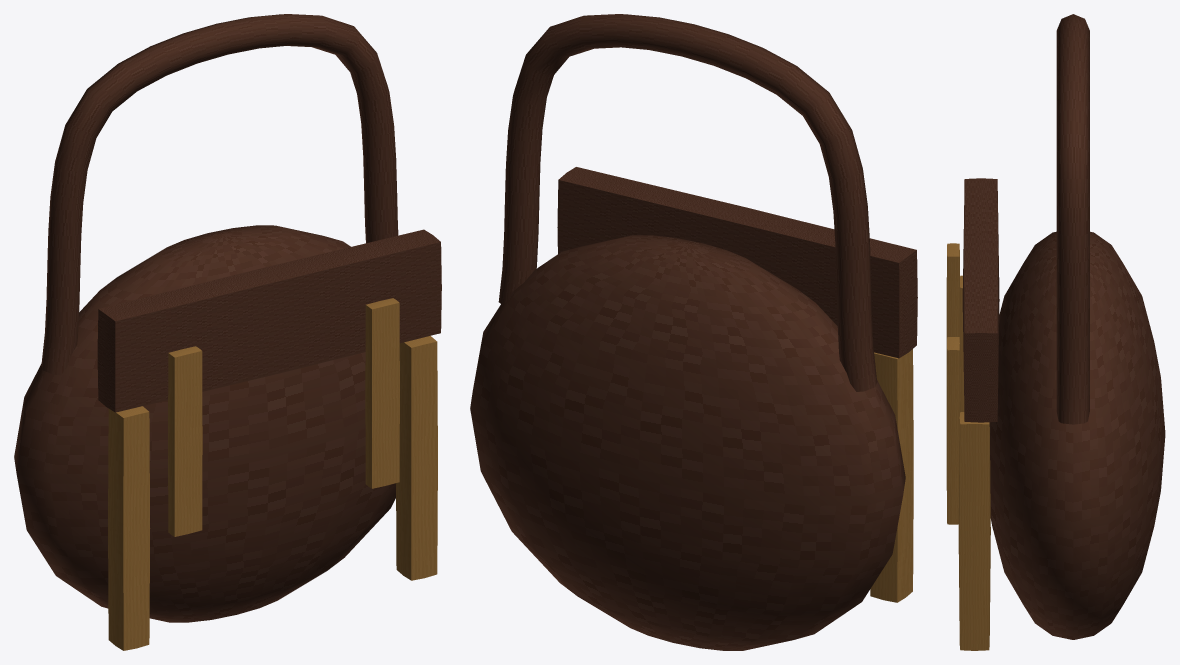
3 views of the same model, side by side, from view 1: azimuth 30°, elevation 25°; view 2: azimuth 150°, elevation 25°; view 3: azimuth 270°, elevation 25° (orthographic). The views are drawn at different scales.
Parts seen in each view (by area): view 1: leather.0, leather.1, leather.4, brass.5, brass.6, brass.3, brass.2; view 2: leather.0, leather.4, leather.1, brass.5; view 3: leather.0, leather.4, leather.1, brass.6, brass.3, brass.2, brass.5.
Part boxes in pixels (x1,y1,x2,y2): leather.0: (14,225,395,622); leather.1: (97,229,441,412); leather.4: (41,14,398,375); brass.5: (108,406,150,650); brass.6: (396,336,437,580); brass.3: (365,298,399,488); brass.2: (168,346,202,536); leather.0: (470,235,905,650); leather.4: (498,14,877,391); leather.1: (557,167,917,358); brass.5: (870,349,913,602); leather.0: (989,231,1165,639); leather.4: (1056,14,1089,424); leather.1: (962,178,999,422); brass.6: (958,412,990,650); brass.3: (946,337,960,524); brass.2: (946,243,960,370); brass.5: (960,275,964,411).
Size of the model in its own units: 0.5 by 0.6851 by 0.2375.
Materials: 2 (2 with a texture image).
